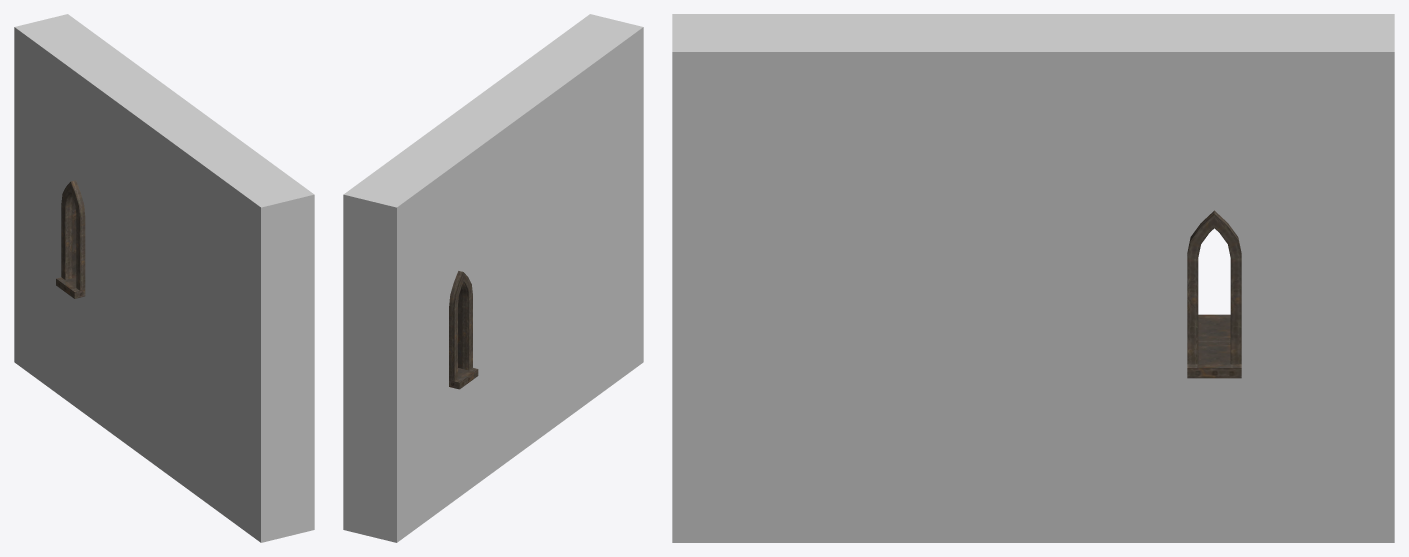
3 renders of one model, left to right at view 1: azimuth 30°, elevation 25°; view 2: azimuth 150°, elevation 25°; view 3: azimuth 270°, elevation 25°, orthographic. The views are drawn at different scales.
Visible parts, largest first — view 1: SM_Dowdun_Wall_8x6_05_LOD0; view 2: SM_Dowdun_Wall_8x6_05_LOD0; view 3: SM_Dowdun_Wall_8x6_05_LOD0.
Part boxes in pixels (x1,y1,x2,y2): SM_Dowdun_Wall_8x6_05_LOD0: (14, 14, 314, 542); SM_Dowdun_Wall_8x6_05_LOD0: (343, 14, 643, 542); SM_Dowdun_Wall_8x6_05_LOD0: (672, 14, 1394, 542).
Bounding box in the file's own units: 1.4 × 6 × 8.
Materials: 2 (1 with a texture image).
